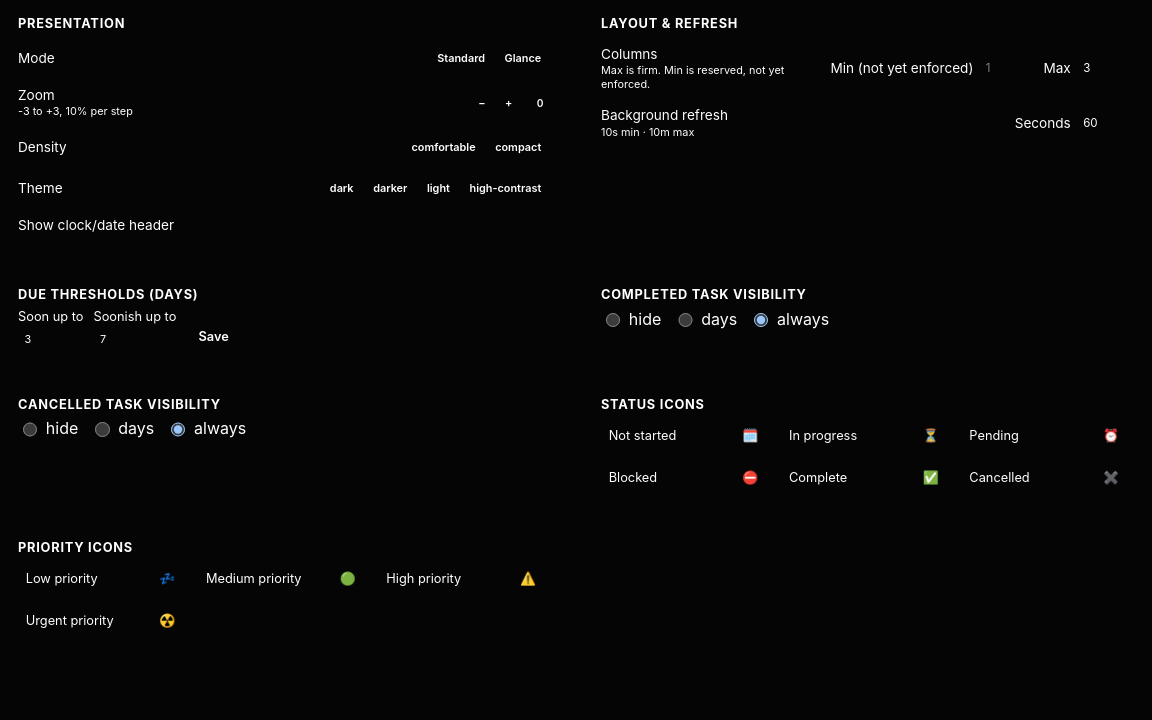
DisplaySettings › rejects an invalid due-threshold submission with a visible error and keeps the prior values
Replace the text in the number field labelled "Soon up to" with "7" at (48,339), box [18, 327, 78, 351]
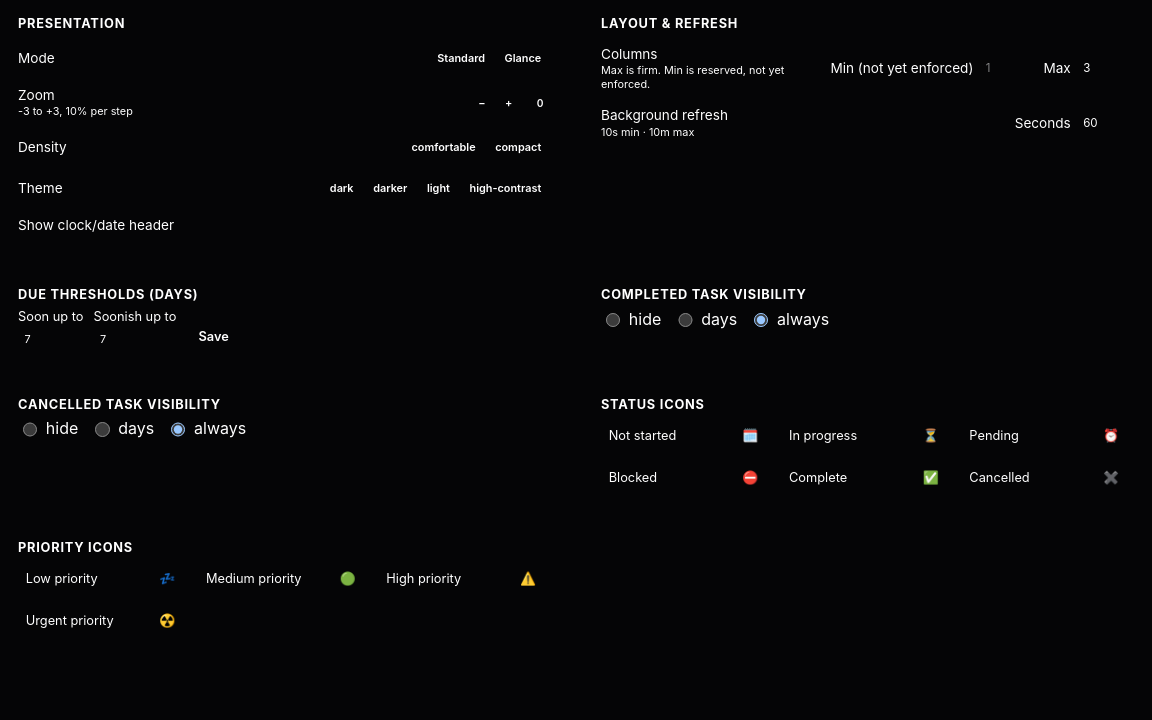
Replace the text in the number field labelled "Soonish up to" with "3" at (123,339), box [94, 327, 153, 351]
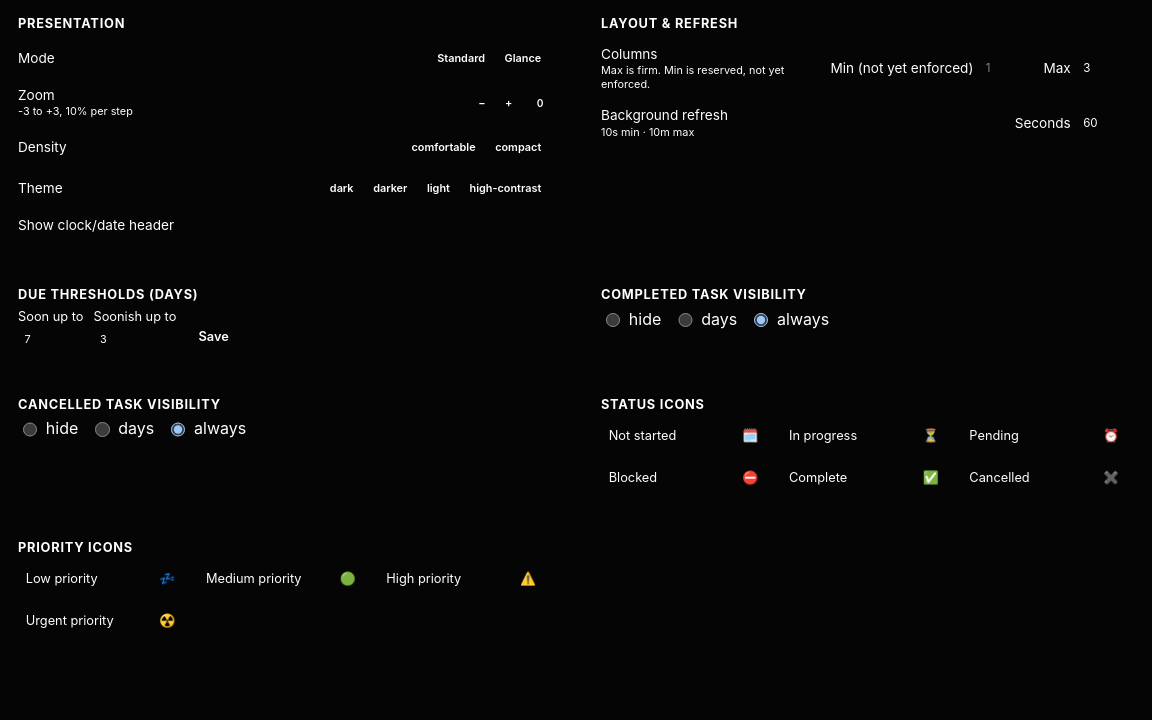
Submit the form with test id "due-thresholds-form", box [18, 309, 241, 351]
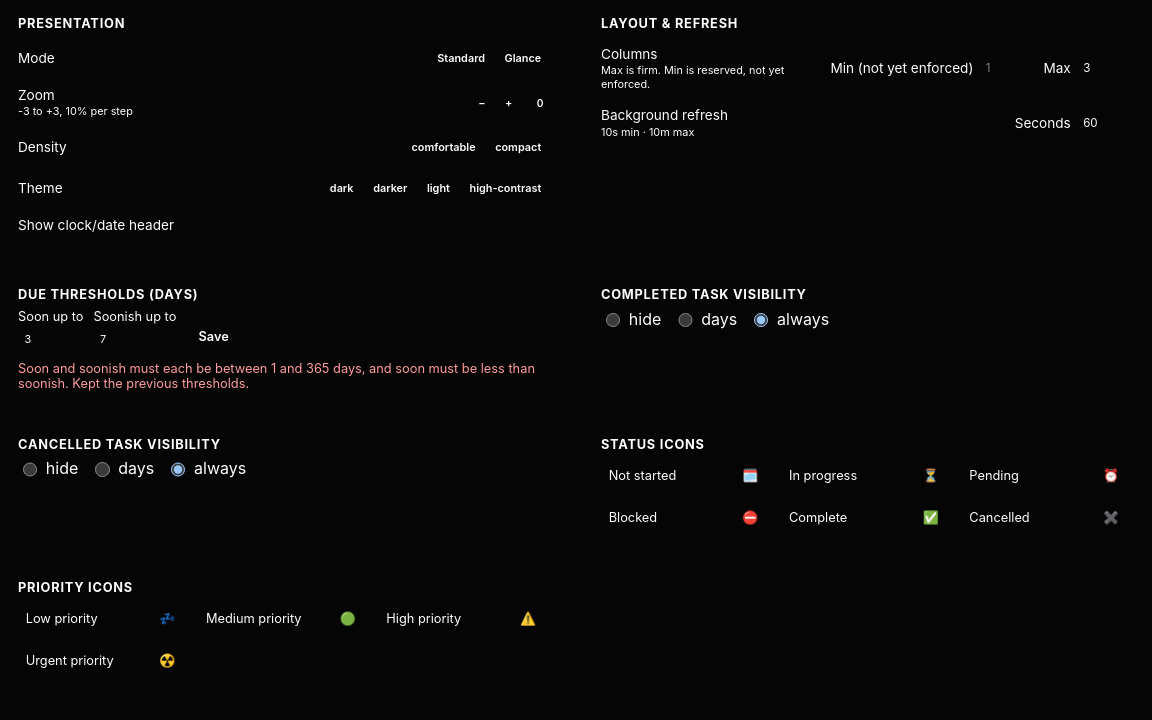
Check: the message shows "Kept the previous thresholds.", box [18, 361, 535, 391]
Check: the number field labelled "Soon up to" holds "3", box [18, 327, 78, 351]
Check: the number field labelled "Soonish up to" holds "7", box [94, 327, 153, 351]
